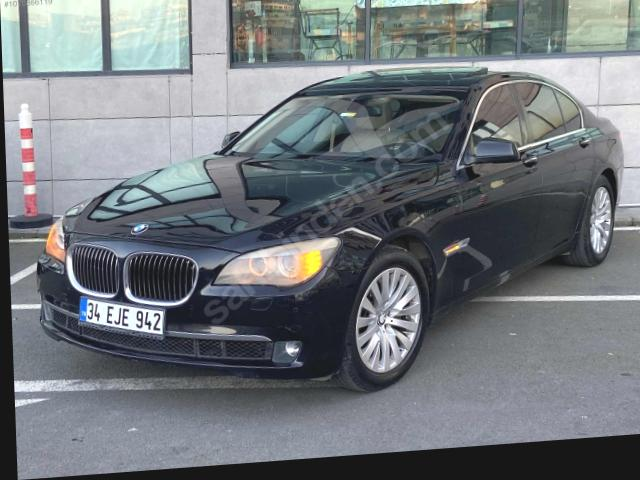plaka: (80, 298, 164, 335)
